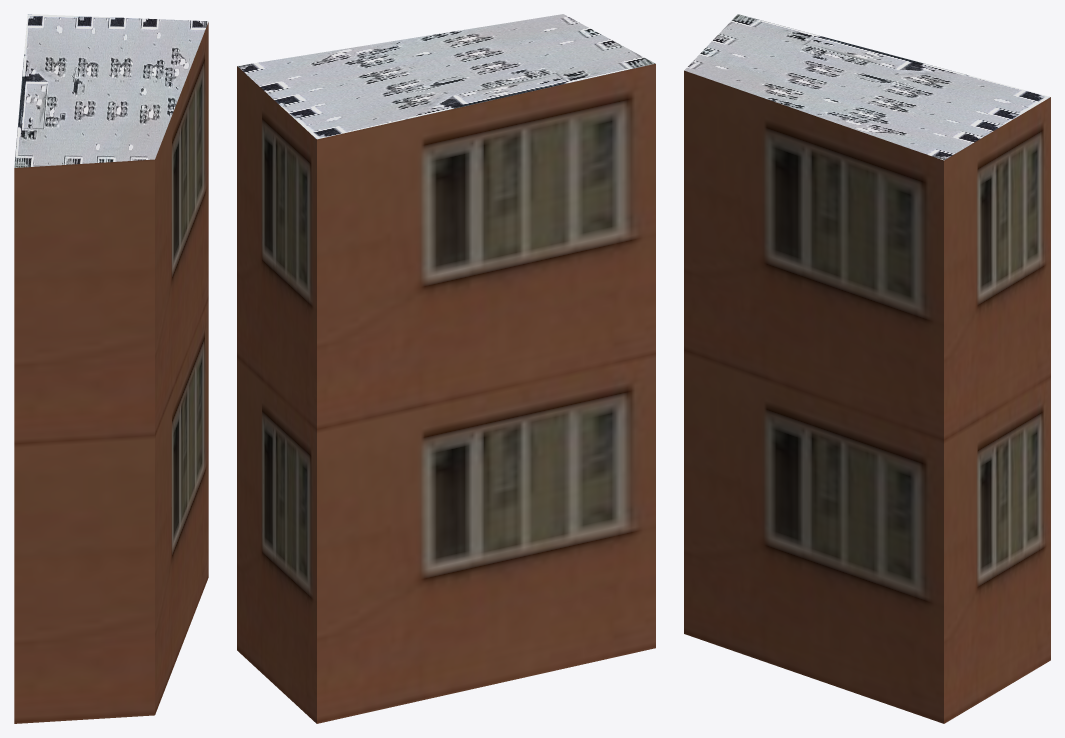
The model's file is ResTex__4514.fbx.
The picture shows the model from 3 angles, left to right: view 1: azimuth 30°, elevation 25°; view 2: azimuth 150°, elevation 25°; view 3: azimuth 270°, elevation 25°; orthographic projection. The views are drawn at different scales.
Parts seen in each view (by area): view 1: CityEngineMaterial_20_m, CityEngineMaterial_4_m; view 2: CityEngineMaterial_20_m, CityEngineMaterial_4_m; view 3: CityEngineMaterial_20_m, CityEngineMaterial_4_m.
Boxes of the visible parts, left/top/right/bottom form: CityEngineMaterial_20_m: left=14, top=22, right=208, bottom=723; CityEngineMaterial_4_m: left=14, top=14, right=208, bottom=167; CityEngineMaterial_20_m: left=237, top=63, right=655, bottom=723; CityEngineMaterial_4_m: left=237, top=14, right=655, bottom=139; CityEngineMaterial_20_m: left=684, top=70, right=1050, bottom=723; CityEngineMaterial_4_m: left=684, top=14, right=1050, bottom=160.
Bounding box in the file's own units: 3.35 × 6 × 3.54.
Materials: 2 (2 with a texture image).
